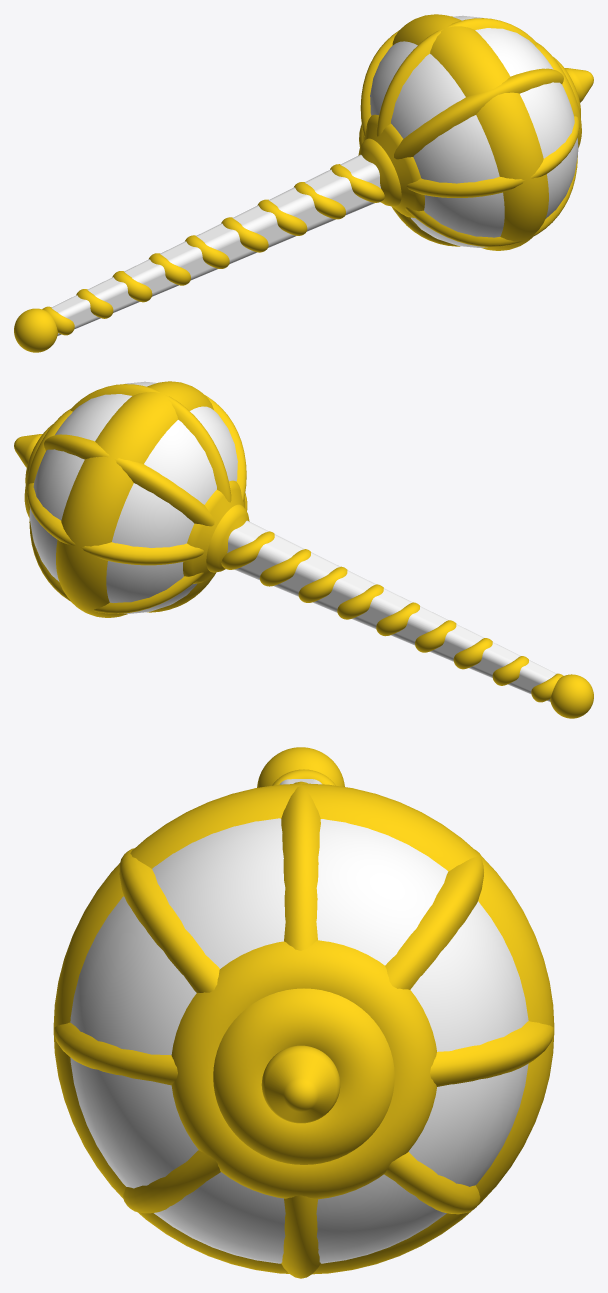
The model's file is gada.glb.
3 views of the same model, one above another, from view 1: azimuth 30°, elevation 25°; view 2: azimuth 150°, elevation 25°; view 3: azimuth 270°, elevation 25° (orthographic). The views are drawn at different scales.
Parts seen in each view (by area): view 1: Torus, Torus 1, Box 1, Sphere 4, Sphere 2, Sphere 1, Sphere 3, Cone, Sphere, Cone 1, Torus 4, Torus 5 (+8 smaller); view 2: Torus, Torus 1, Box 1, Sphere 3, Sphere 1, Sphere 2, Sphere 4, Cone, Sphere, Cone 1, Torus 4, Torus 5 (+9 smaller); view 3: Torus, Torus 3, Torus 1, Torus 2, Sphere 4, Sphere 2, Sphere 3, Sphere 1, Cone 2, Sphere.
Boxes of the visible parts, x1,y1,x2,y2 form: Torus: (370,15,578,247); Torus 1: (392,14,548,250); Box 1: (51,154,380,335); Sphere 4: (394,68,563,159); Sphere 2: (376,18,537,246); Sphere 1: (359,116,579,197); Sphere 3: (360,16,577,246); Cone: (362,114,424,217); Sphere: (14,308,57,352); Cone 1: (358,138,401,206); Torus 4: (330,164,384,202); Torus 5: (294,182,345,219); Torus: (29,381,237,613); Torus 1: (56,381,213,617); Box 1: (227,520,556,701); Sphere 3: (44,434,214,526); Sphere 1: (27,483,247,565); Sphere 2: (70,384,231,612); Sphere 4: (29,395,246,613); Cone: (183,480,245,583); Sphere: (550,674,593,718); Cone 1: (206,504,249,572); Torus 4: (221,531,274,569); Torus 5: (259,549,310,586); Torus: (70,818,528,1263); Torus 3: (171,940,436,1199); Torus 1: (53,783,554,1274); Torus 2: (213,988,394,1164); Sphere 4: (119,848,480,1214); Sphere 2: (281,781,320,1278); Sphere 3: (123,850,483,1213); Sphere 1: (53,1021,554,1086); Cone 2: (261,1045,340,1123); Sphere: (257,747,344,787).
Bounding box in the file's own units: 0.4512 × 0.169 × 0.17.
